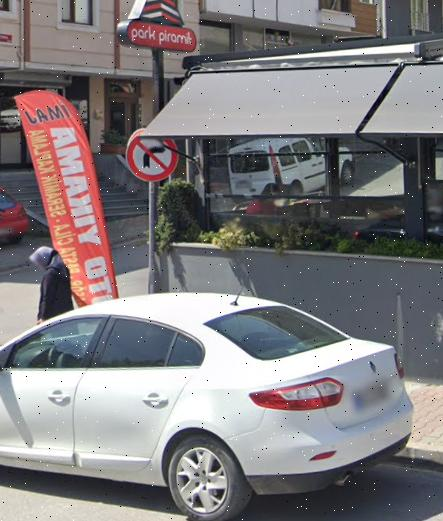rightturnsareforbidden: (125, 128, 181, 181)
